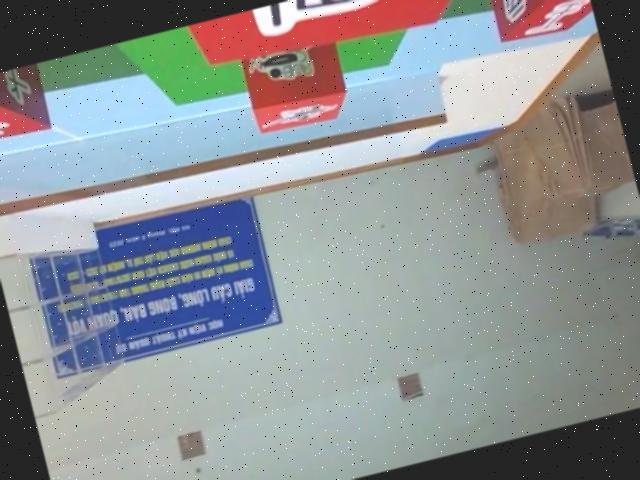R1: (234, 22, 356, 142)
R2 Fake: (478, 0, 597, 51)
R2 Real: (178, 0, 518, 88), (0, 62, 58, 153)
